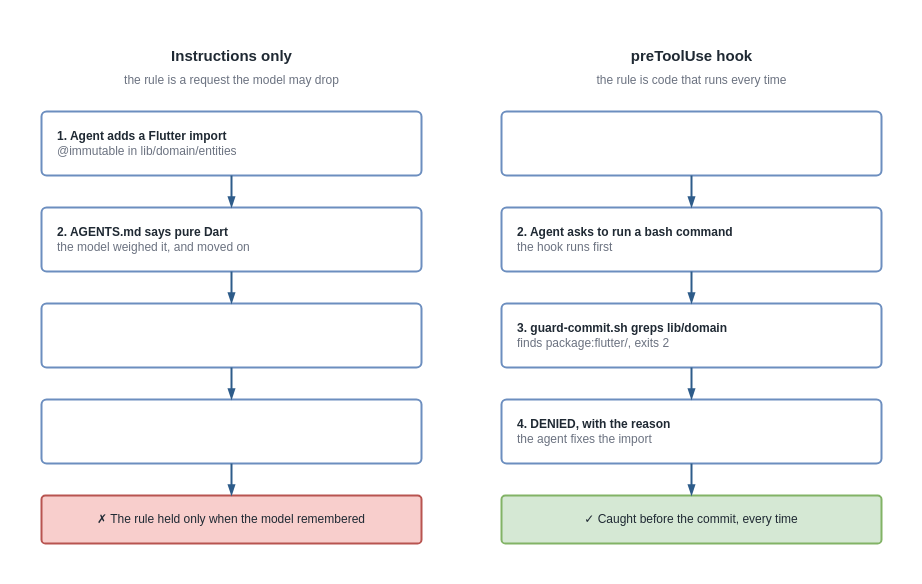
Some shapes in this 922 by 584 pixel diagram are drawn without their labels. The box of each missing label's shape, as (x1, y1, x2, y2) in pixels:
1. Agent adds a Flutter import the same mistake: (500, 110, 882, 176)
3. Agent runs git commit nothing stands in the way: (40, 302, 422, 368)
4. CI fails, twenty minutes later after the push: (40, 398, 422, 464)
